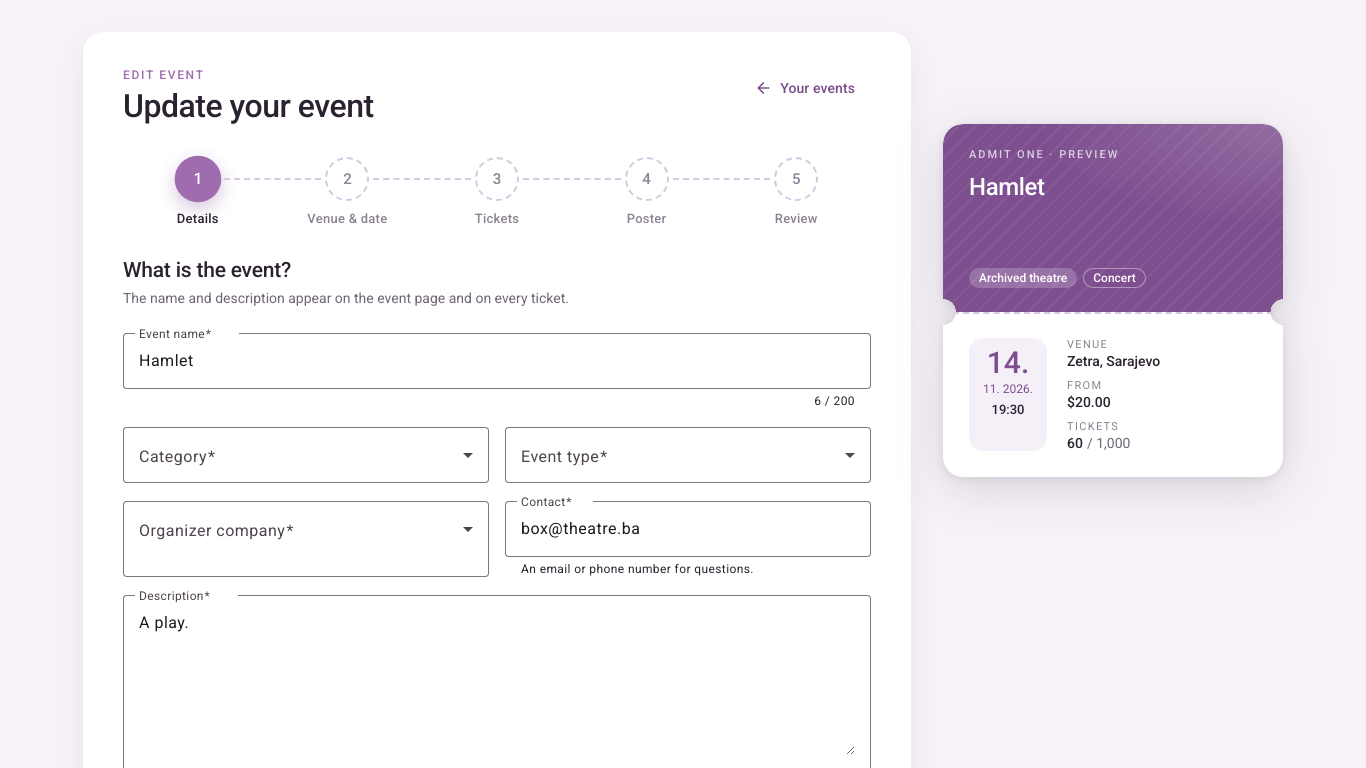
Test case: EventWizardComponent › checks the date again before moving on to the next step
Click the tab with class "track__button" showing "2 Venue & date".
click(347, 191)  # box [273,157,422,226]
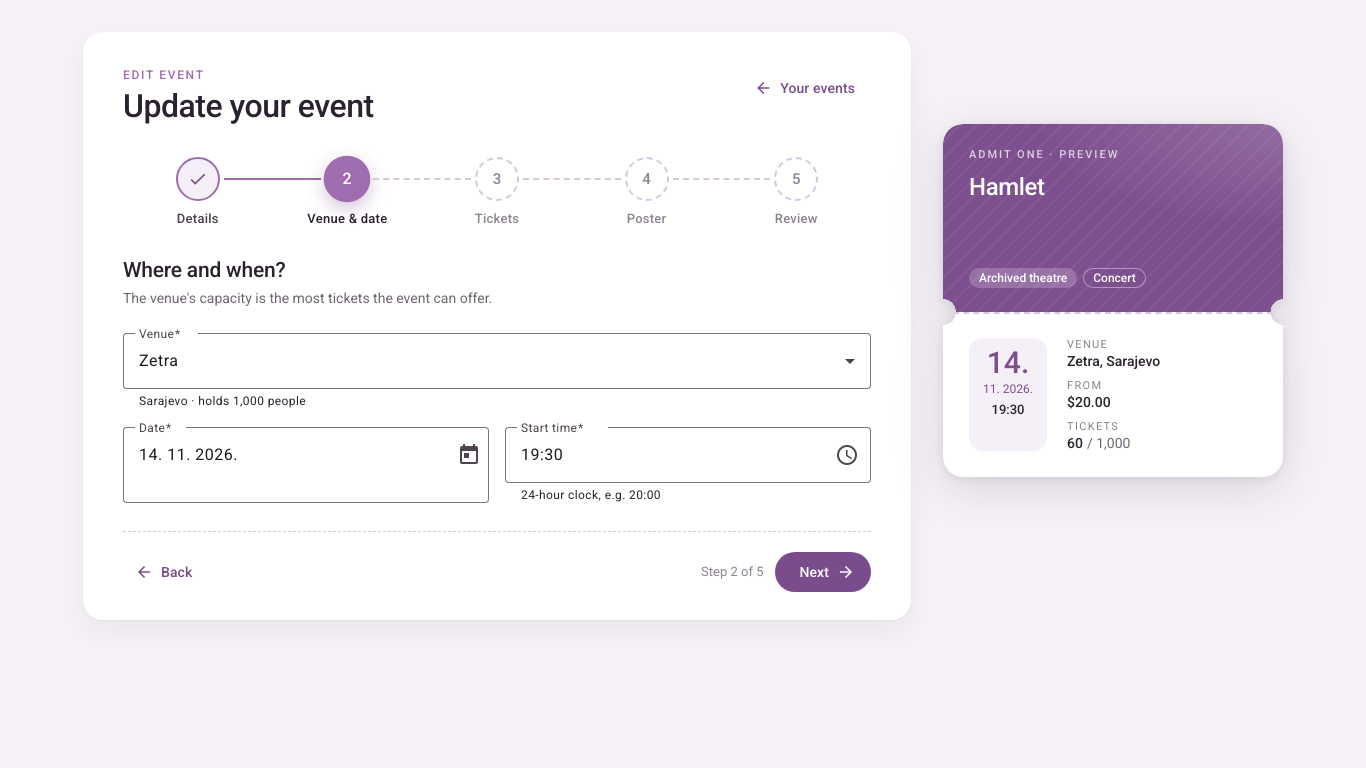
Click the button "Next".
click(823, 572)  # box [776,552,871,592]
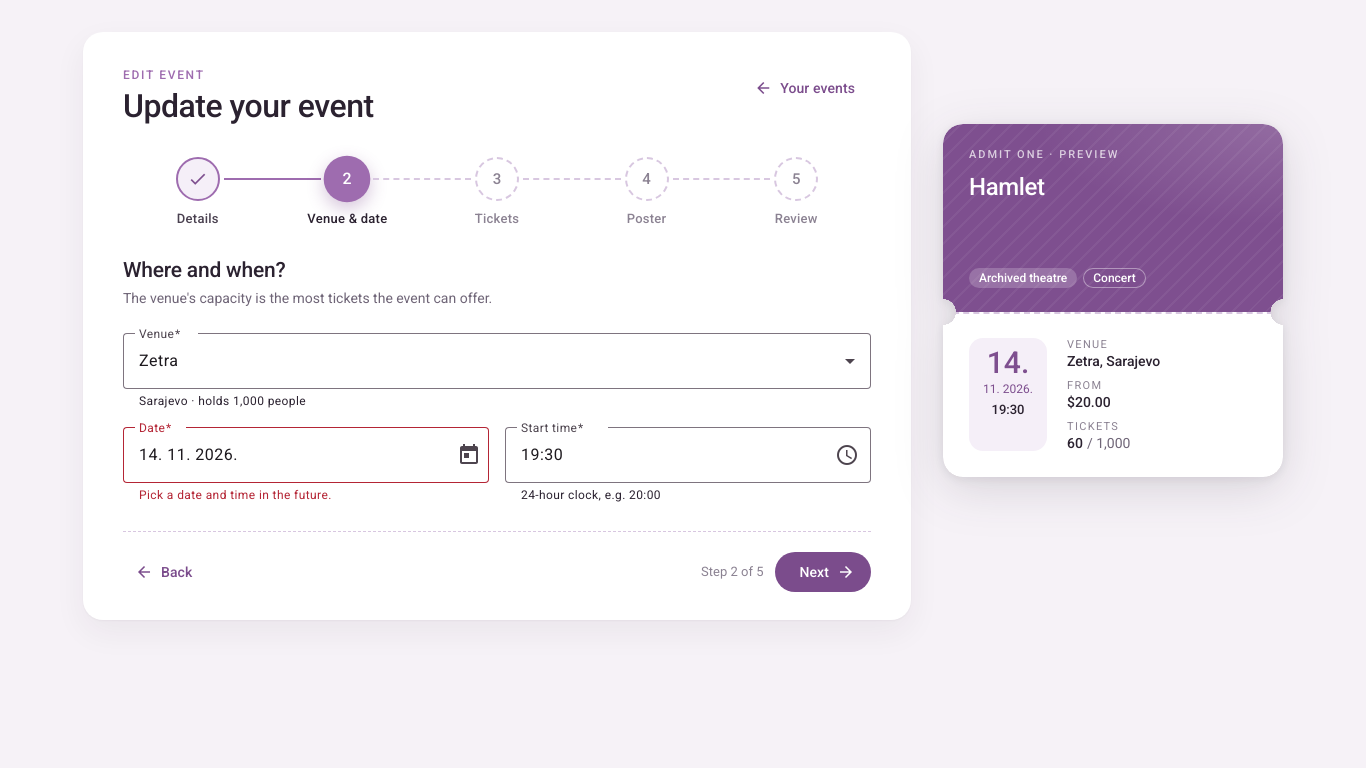
Expected: the tab with class "track__button" shows "Venue & date", [273,157,422,226]
Result: the text "Pick a date and time in the future." is shown at [139,488,332,502]
